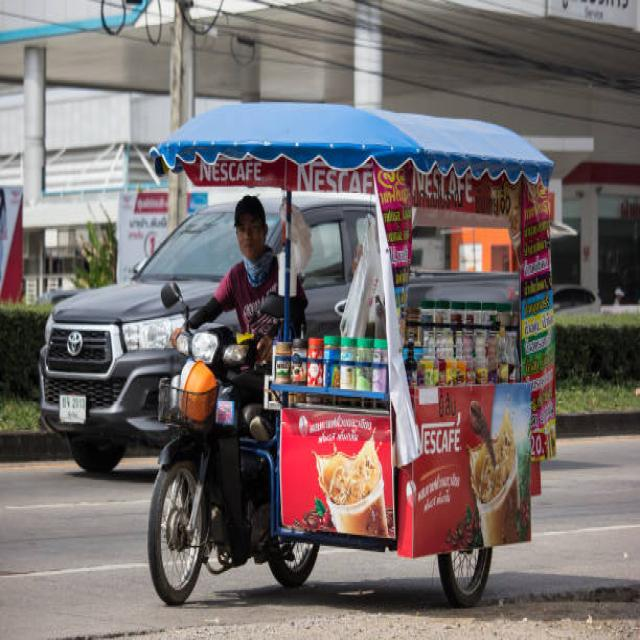Emperan: (134, 84, 566, 623)
